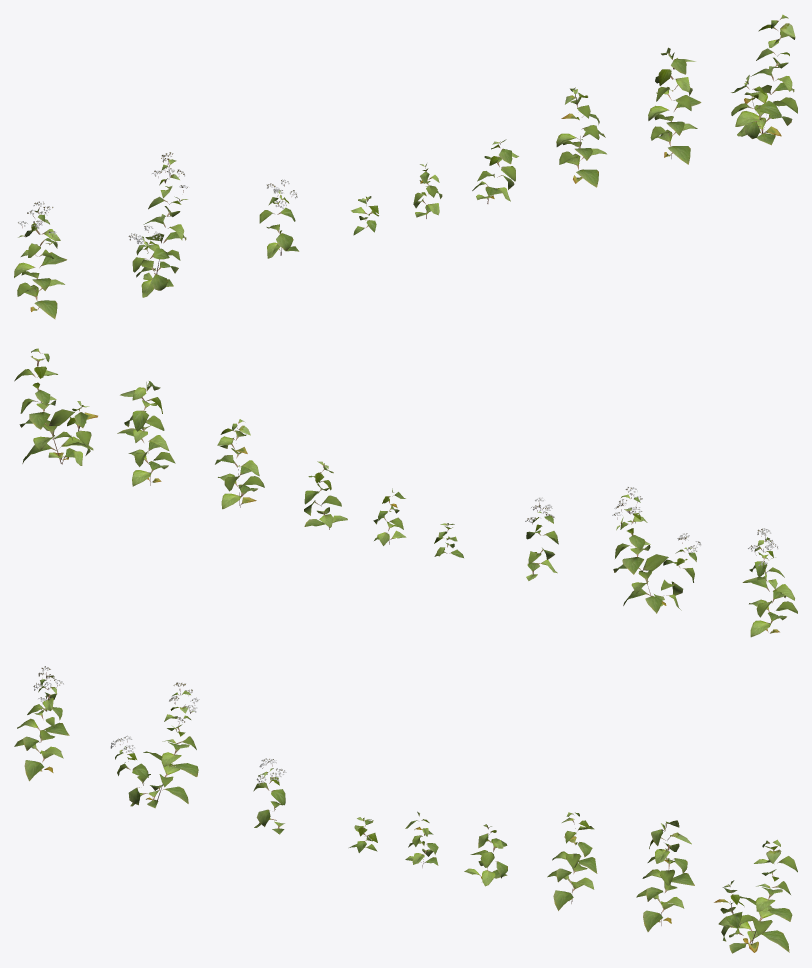
The model's file is shrub_01.glb.
3 views of the same model, one above another, from view 1: azimuth 30°, elevation 25°; view 2: azimuth 150°, elevation 25°; view 3: azimuth 330°, elevation 25° (orthographic). The views are drawn at different scales.
Parts seen in each view (by area): view 1: shrub_01_a; view 2: shrub_01_a; view 3: shrub_01_a.
Boxes of the visible parts, box(x1,y1,x2,y2) form: shrub_01_a: box(14, 14, 797, 319); shrub_01_a: box(14, 348, 797, 637); shrub_01_a: box(14, 666, 797, 953).
Size of the model in its own units: 2.59 by 0.3956 by 0.2175.
Materials: 1 (1 with a texture image).
